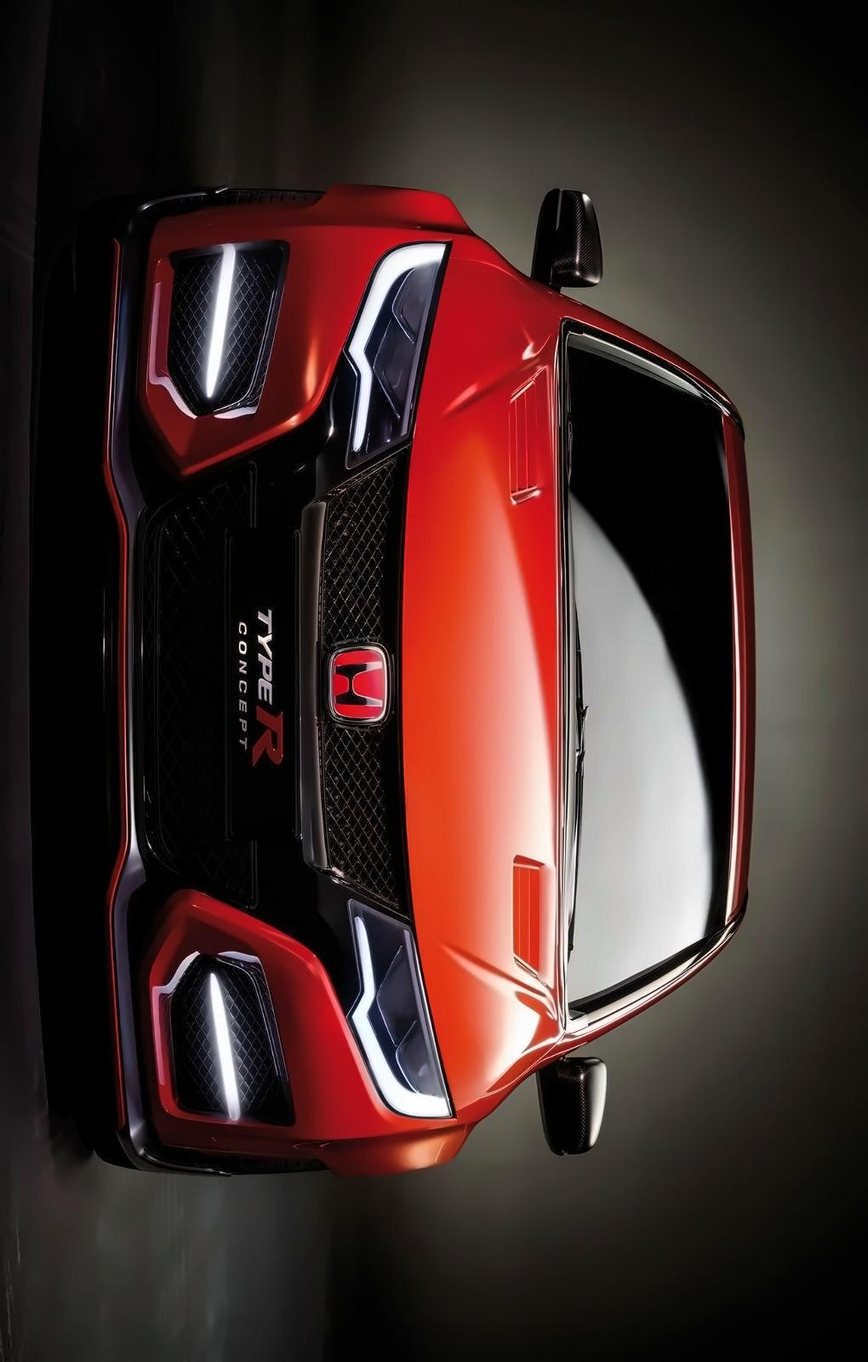Car hood: (396, 232, 572, 1140)
Front bumper: (79, 166, 347, 1182)
Headlight - -L-: (341, 898, 458, 1117)
Headlight - -R-: (328, 236, 453, 472)
Side mirror - -L-: (532, 1049, 610, 1159)
Side mirror - -R-: (515, 185, 615, 300)
